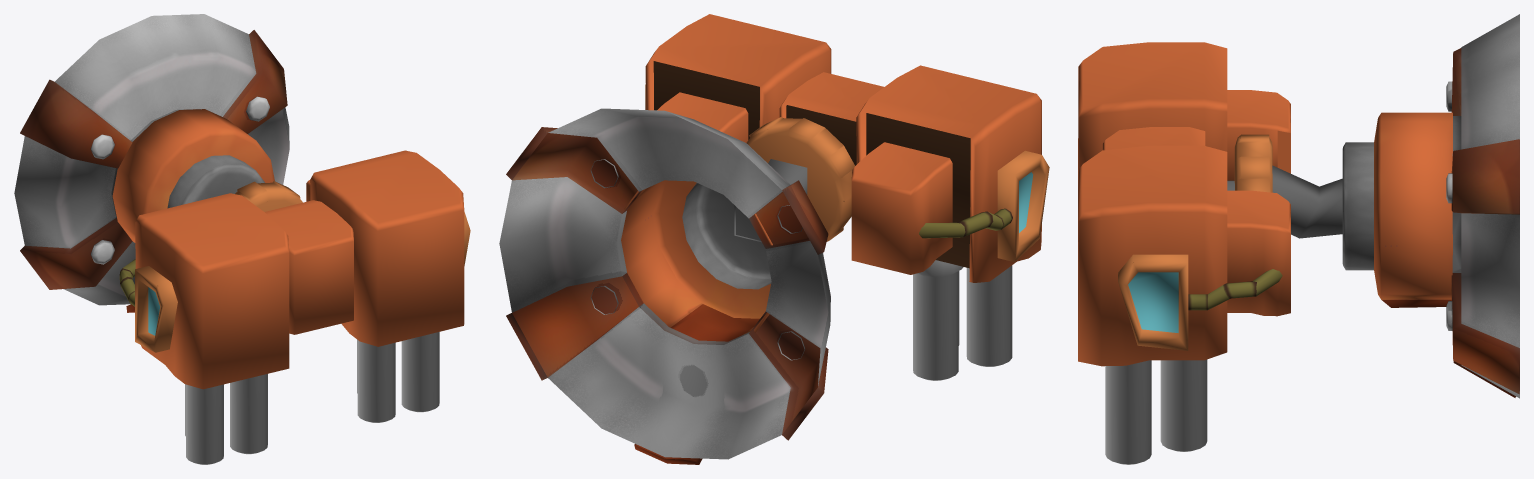
File: MachineZ.fbx
3 renders of one model, left to right at view 1: azimuth 30°, elevation 25°; view 2: azimuth 150°, elevation 25°; view 3: azimuth 270°, elevation 25°, orthographic. The views are drawn at different scales.
Visible parts, largest first — view 1: MechGunZ; view 2: MechGunZ; view 3: MechGunZ.
Part boxes in pixels (x1,y1,x2,y2): MechGunZ: [14, 14, 470, 464]; MechGunZ: [499, 14, 1049, 464]; MechGunZ: [1078, 14, 1519, 464].
Size of the model in its own units: 4.68 by 4.36 by 4.81.
